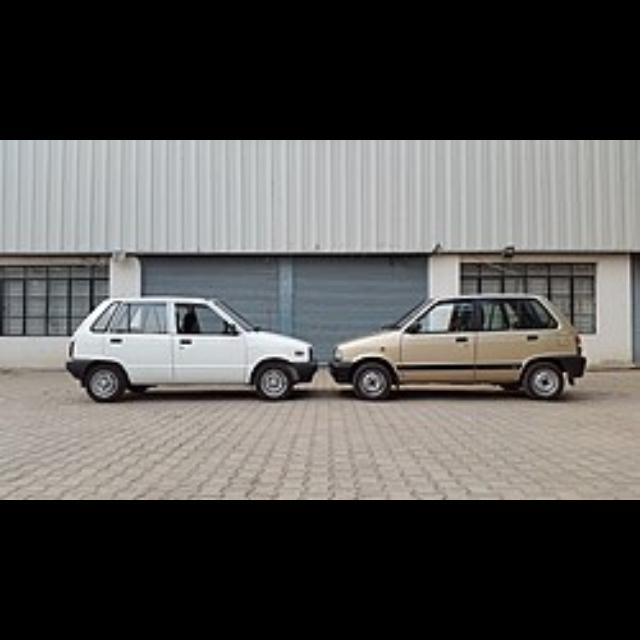vehicles: (70, 294, 319, 408), (329, 295, 590, 400)
